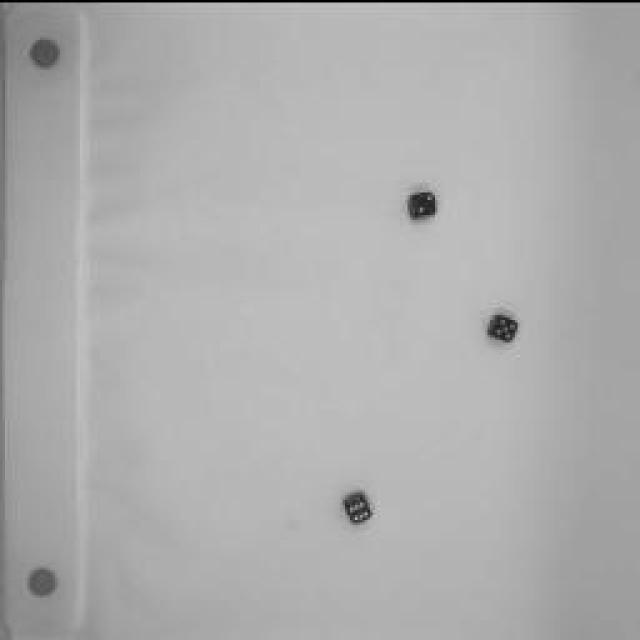dice_2: (402, 180, 442, 225)
dice_5: (485, 309, 523, 346)
dice_6: (338, 485, 378, 525)
